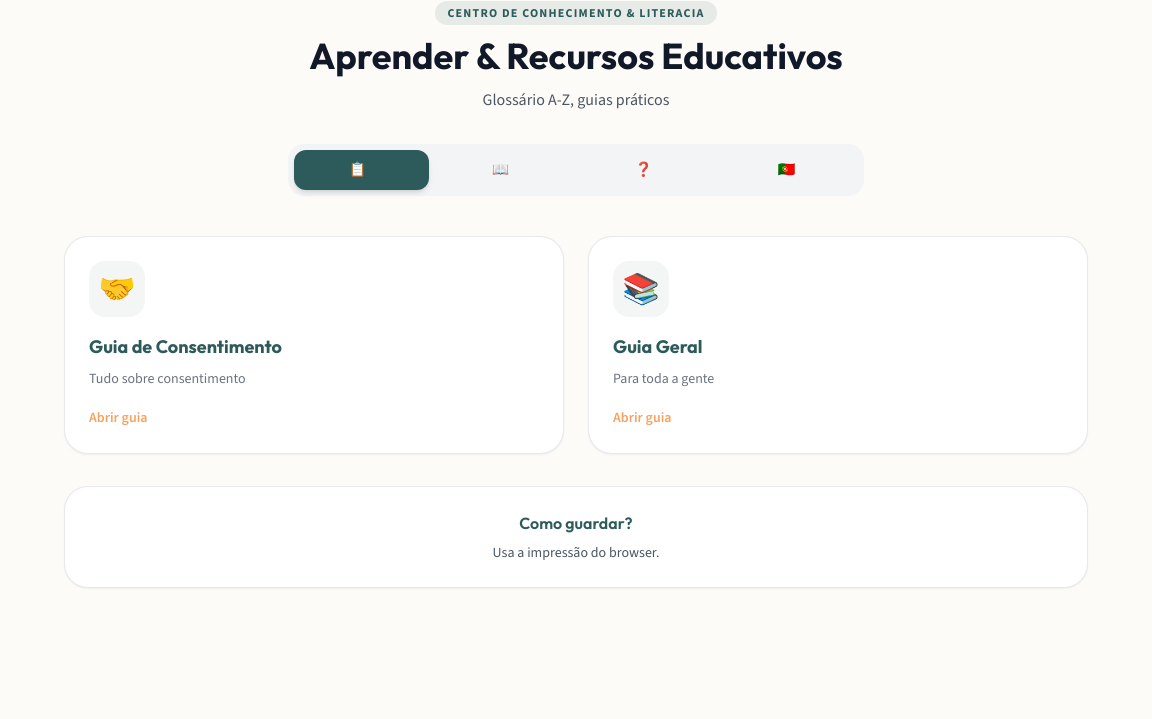
Test: ResourcesTab › opens guide on click
Step 1. Click the heading "Guia de Consentimento" → (185, 346), box [89,335,282,358]
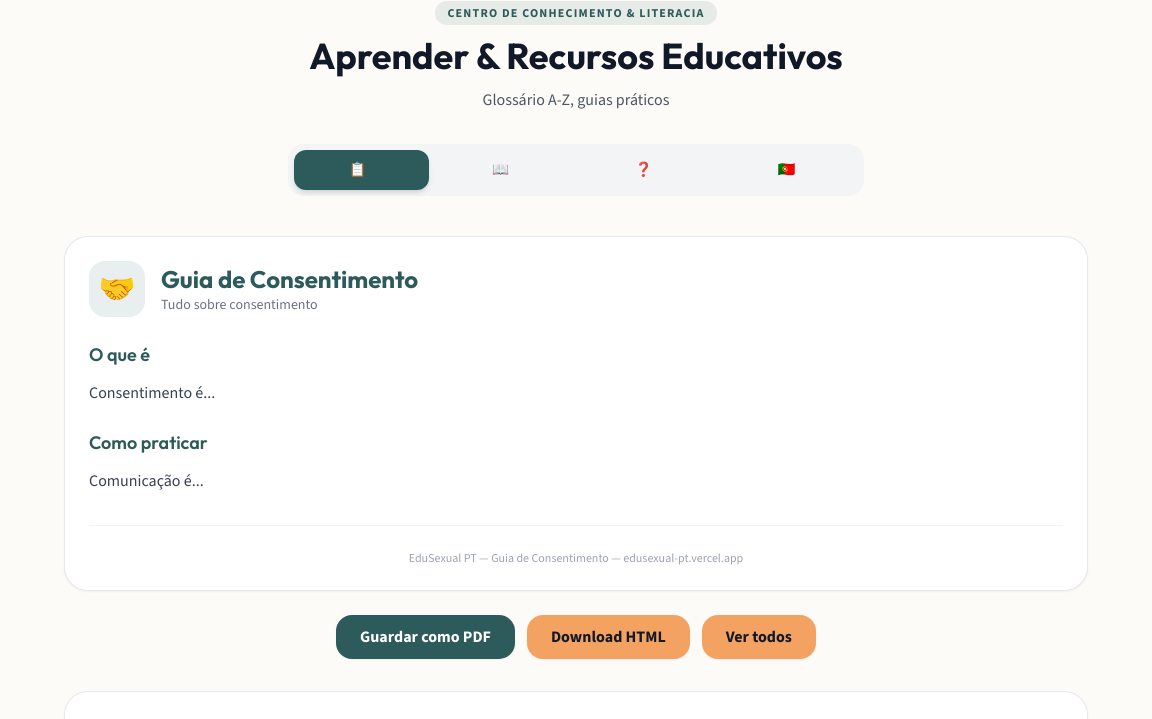
Check: the heading "O que é" is shown, box [89,343,150,366]
Check: the text "Consentimento é..." is shown, box [89,382,215,403]
